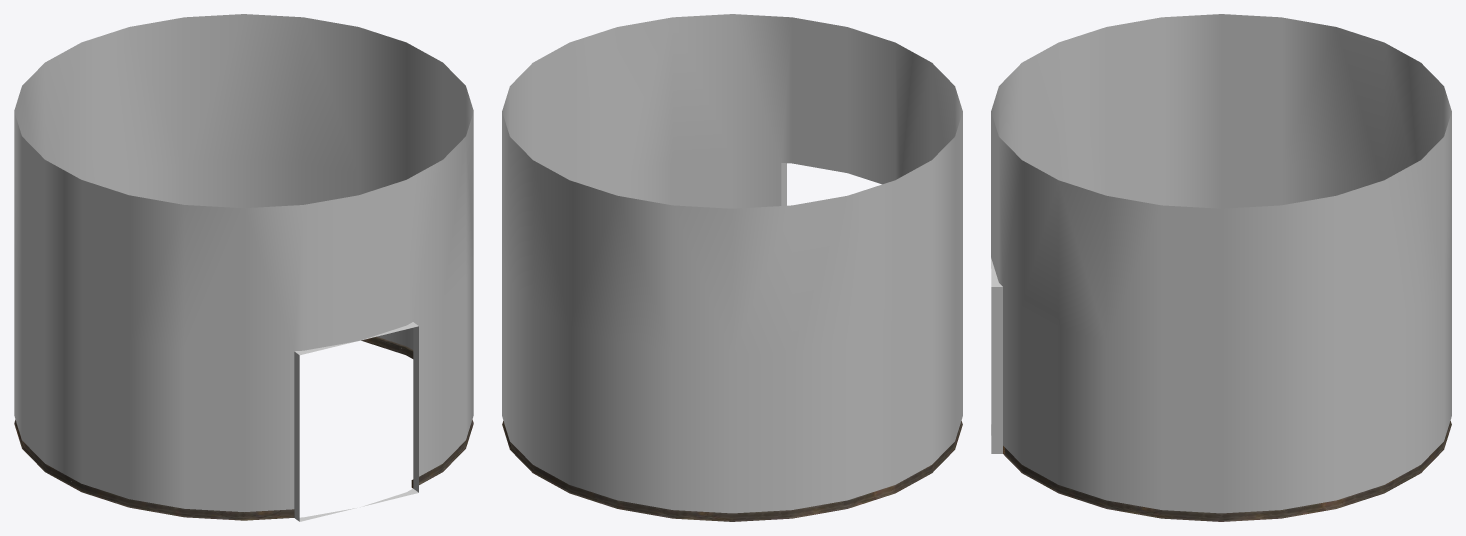
3 views of the same model, side by side, from view 1: azimuth 30°, elevation 25°; view 2: azimuth 150°, elevation 25°; view 3: azimuth 270°, elevation 25° (orthographic).
Parts seen in each view (by area): view 1: SM_Dowdun_Spiral_Staircase_Tower_04_LOD0; view 2: SM_Dowdun_Spiral_Staircase_Tower_04_LOD0; view 3: SM_Dowdun_Spiral_Staircase_Tower_04_LOD0.
Part boxes in pixels (box(x1,y1,x2,y2)): SM_Dowdun_Spiral_Staircase_Tower_04_LOD0: box(14, 14, 473, 521); SM_Dowdun_Spiral_Staircase_Tower_04_LOD0: box(502, 14, 962, 521); SM_Dowdun_Spiral_Staircase_Tower_04_LOD0: box(991, 14, 1451, 521).
Bounding box in the file's own units: 10 × 7.5 × 10.
2 materials, 1 textured.
